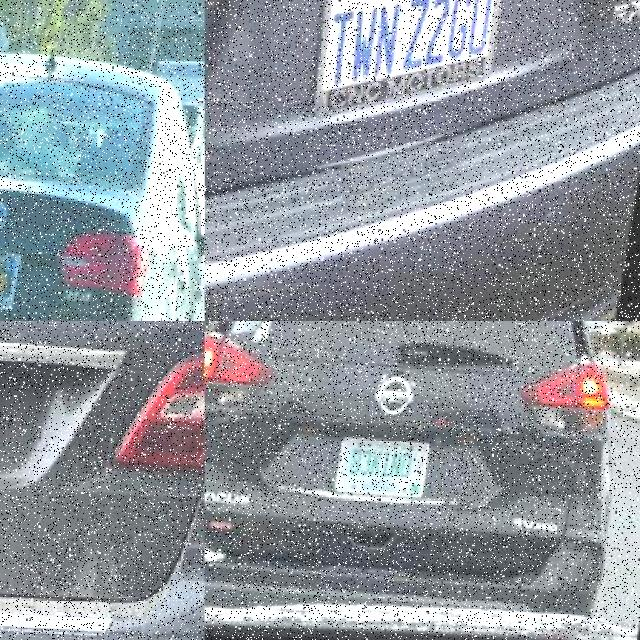licenseplate: (324, 0, 505, 117), (341, 436, 440, 499), (0, 246, 35, 310)
